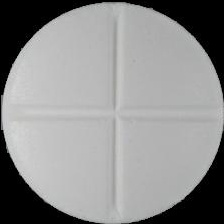0527-1050: (0, 0, 224, 224)
